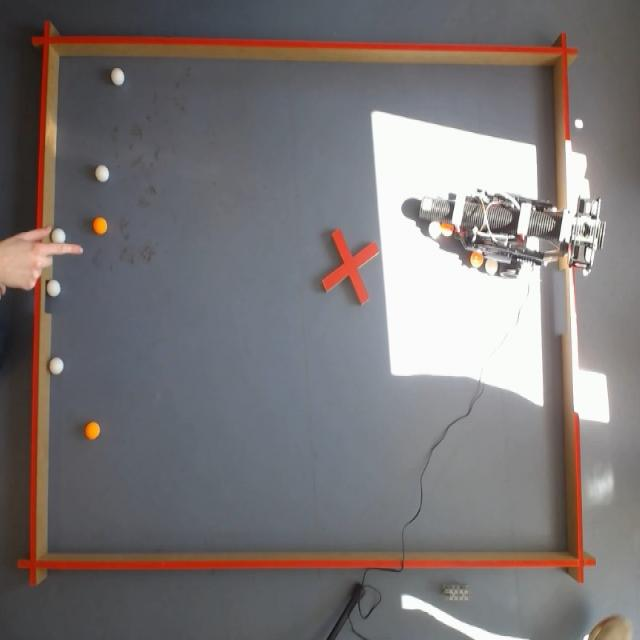orange: (81, 419, 102, 444), (90, 215, 110, 237), (471, 253, 484, 268), (442, 224, 453, 236)
robot: (419, 191, 607, 279)
robot-front: (420, 197, 433, 213)
white: (92, 162, 110, 186), (48, 355, 66, 378), (108, 66, 125, 90), (46, 277, 61, 299), (50, 227, 67, 245), (428, 222, 441, 238), (485, 260, 498, 274)
